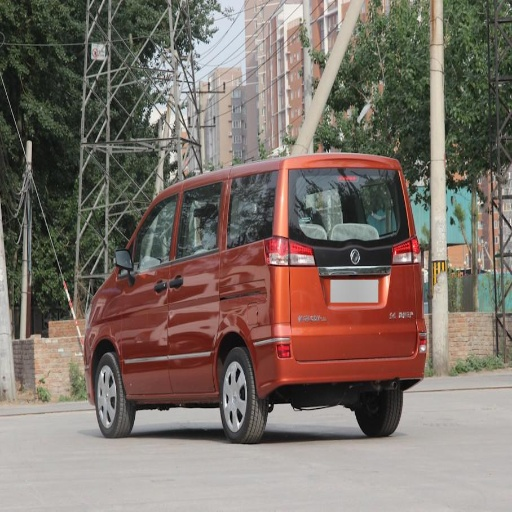back_bumper: (273, 311, 425, 383)
back_glass: (299, 171, 398, 234)
back_left_door: (171, 185, 218, 392)
trunk: (218, 235, 418, 383)
